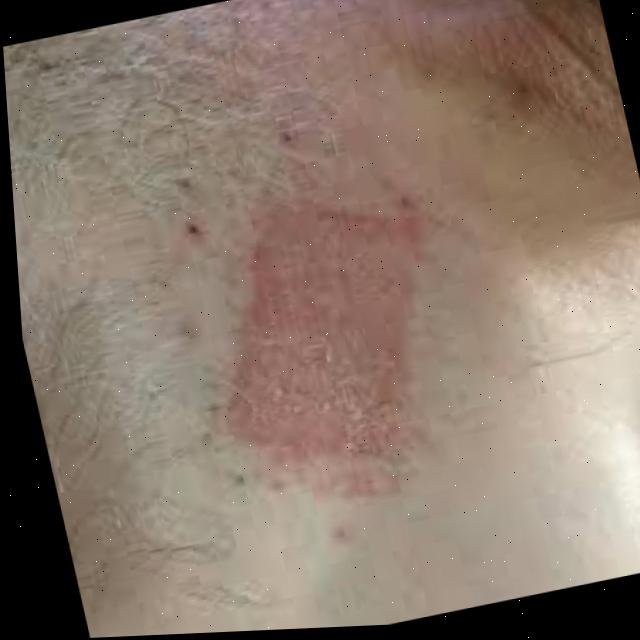Eczema: (250, 222, 444, 480)
